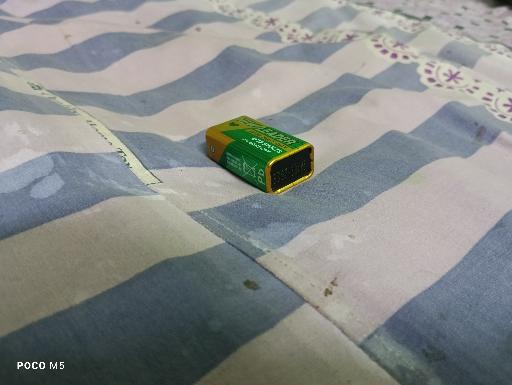Battery: (205, 115, 315, 195)
